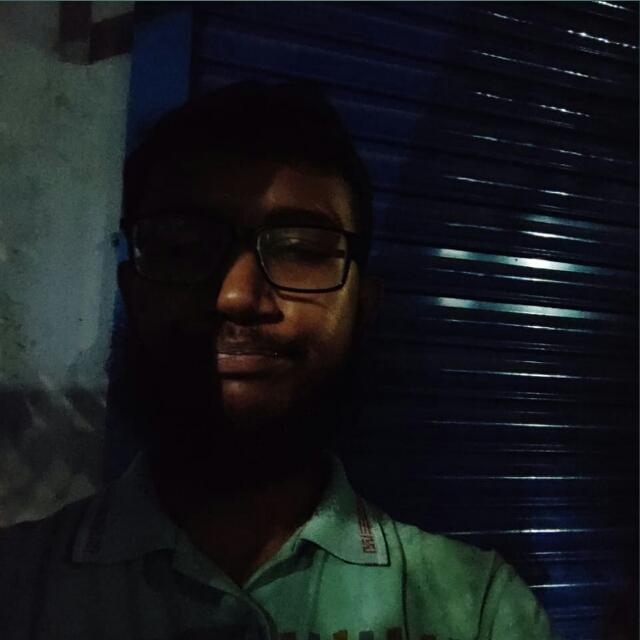Sad: (116, 130, 392, 483)
